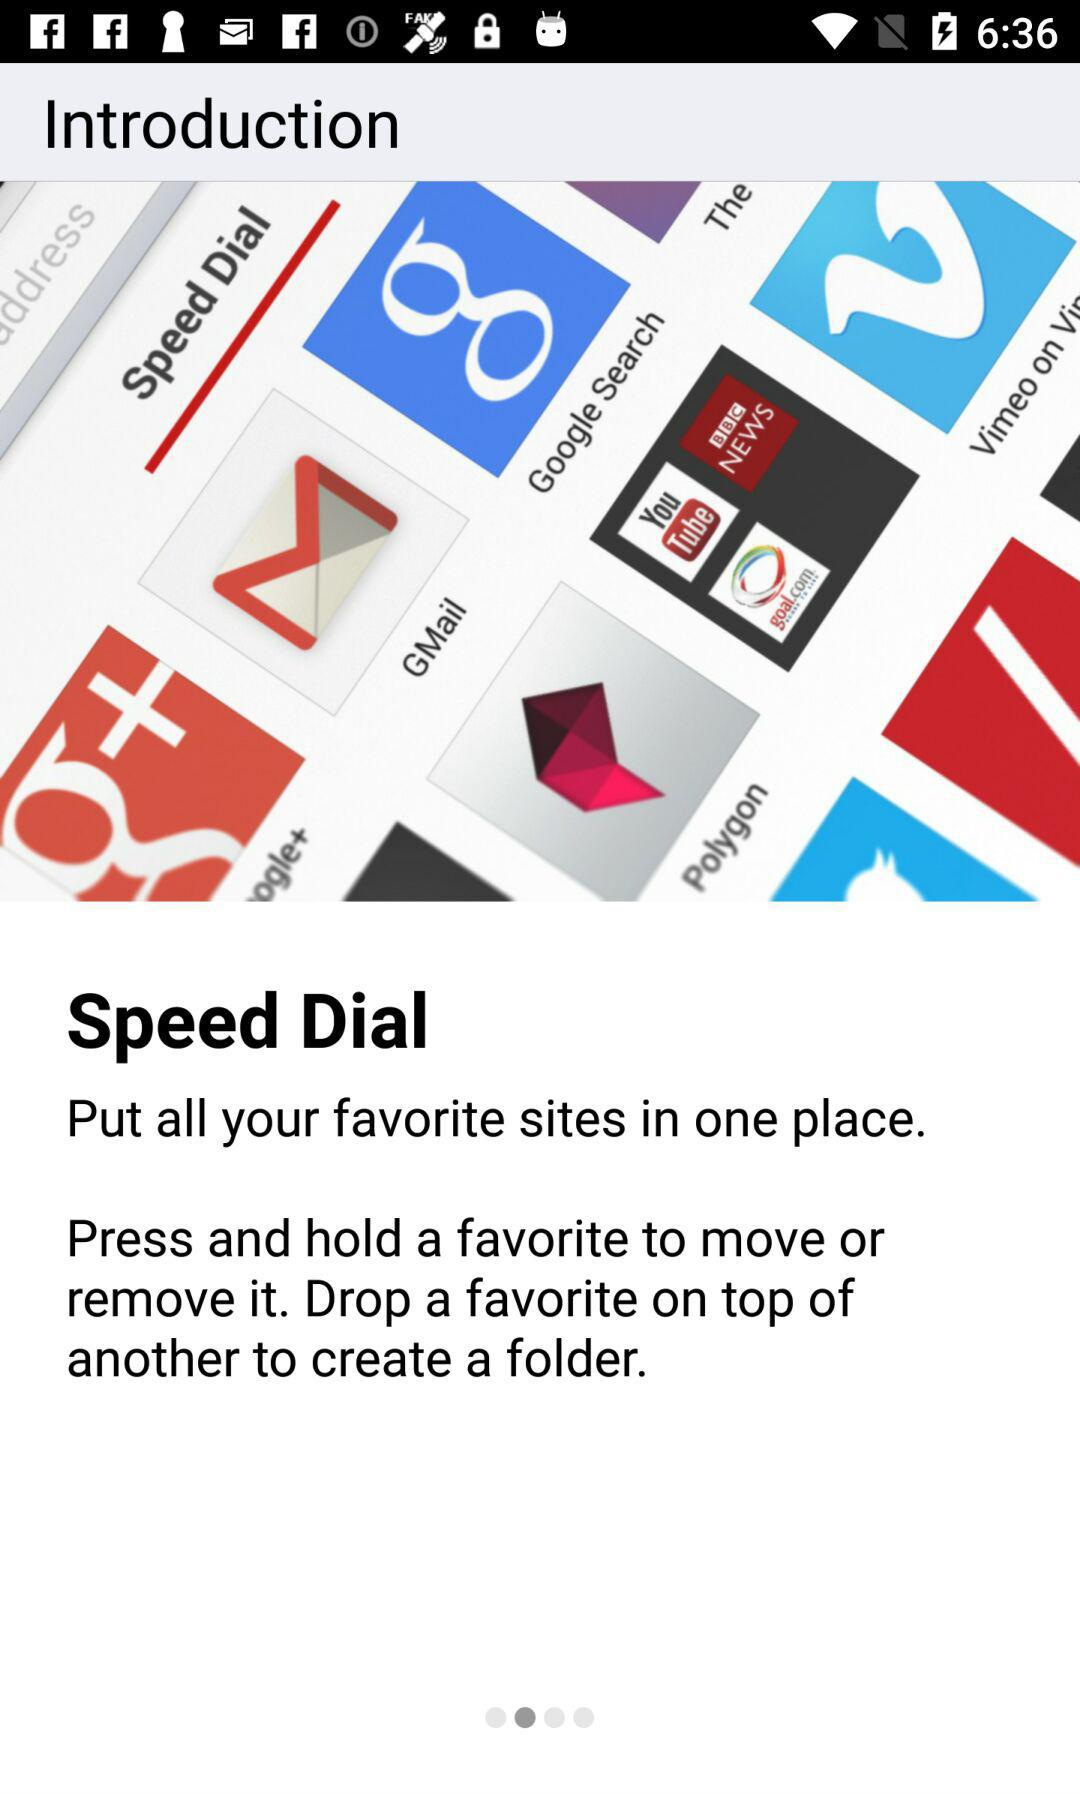Image: (1, 183, 1080, 903)
PageIndicator: (484, 1706, 597, 1730)
Text: (68, 1217, 887, 1380), (69, 1096, 925, 1149), (68, 989, 428, 1065), (47, 96, 400, 152)
UpperTaskBar: (1, 1, 1080, 64)
